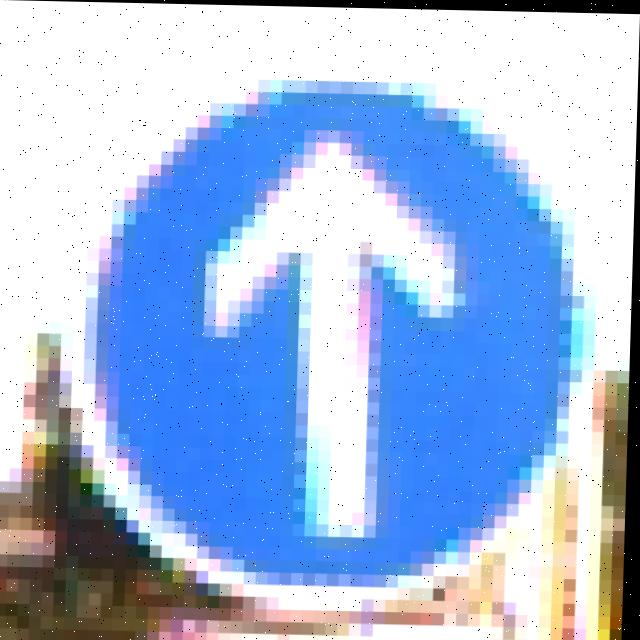compulsory_ahead: (50, 88, 607, 585)
